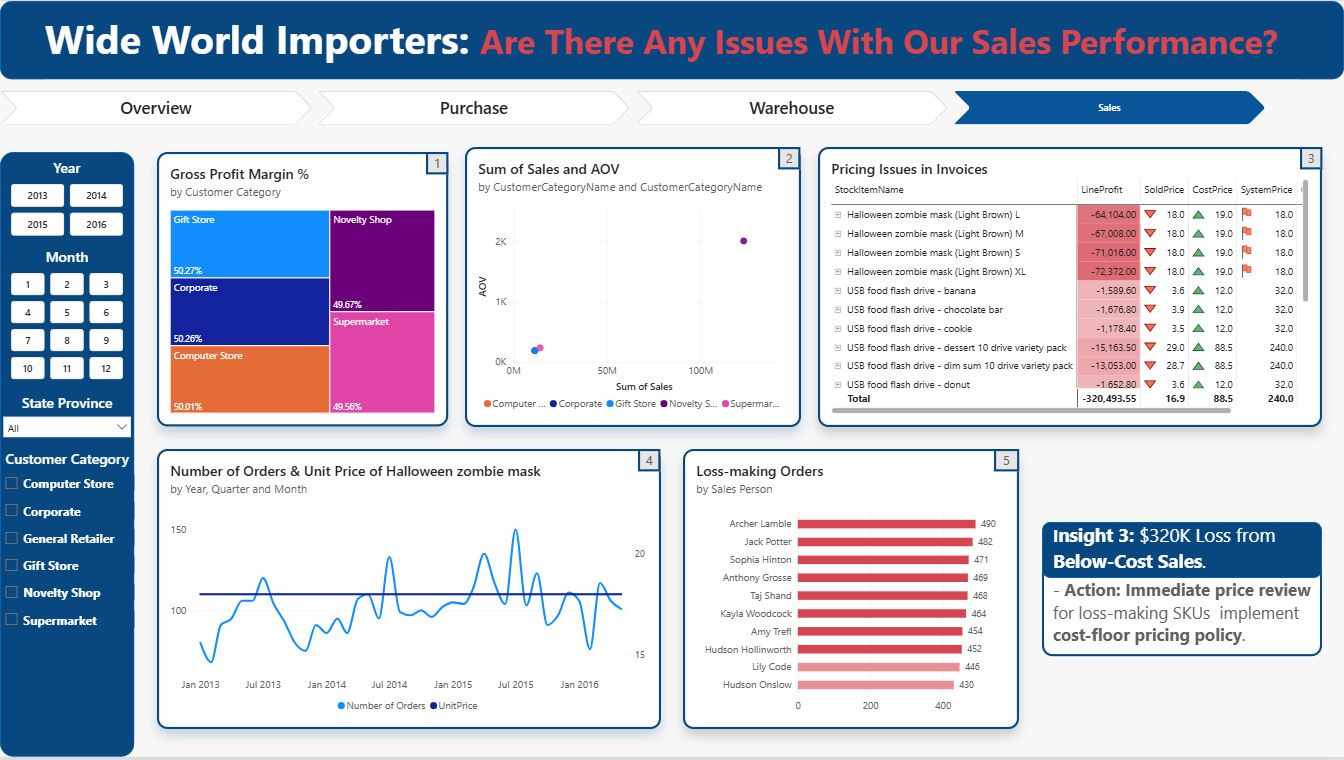

The page's visual inventory and layout, read from the dashboard file:
{"tool":"powerbi","page":{"name":"Sales","canvas":[1920,1080],"ordinal":3},"visuals":[{"type":"shape","box":[0,216,192,864],"z":0},{"type":"shape","box":[0,0,1920,112],"z":1000},{"type":"pageNavigator","box":[0,128,1808,48],"z":2000},{"type":"advancedSlicerVisual","title":"Year","fields":{"Values":["Calendar.Date.Variation.Date Hierarchy.Year"]},"box":[16,224,160,112],"z":3000},{"type":"advancedSlicerVisual","title":"Month","fields":{"Values":["Calendar.MonthNo"]},"box":[16,352,160,192],"z":4000},{"type":"slicer","title":"State Province","fields":{"Values":["Application StateProvinces.StateProvinceName"]},"box":[0,560,192,64],"z":5000},{"type":"textbox","box":[64,16,1792,80],"z":6000},{"type":"shape","box":[1488,760,400,176],"z":7000,"group":"g3"},{"type":"pivotTable","title":"Pricing Issues in Invoices","fields":{"Rows":["Warehouse StockItems.StockItemName","FactSalesInvoices.InvoiceID"],"Values":["Sum(FactSalesInvoices.LineProfit)","Avg(FactSalesInvoices.UnitPrice)","Max(FactSalesInvoices.LastCostPrice)","Max(FactSalesInvoices.Warehouse StockItems.UnitPrice)","Sum(FactSalesInvoices.Quantity)"]},"box":[1168,208,720,400],"z":8000,"group":"g1"},{"type":"shape","box":[1488,744,400,80],"z":8000,"group":"g3"},{"type":"barChart","title":"Loss-making Orders","fields":{"Category":["Application People.FullName"],"Y":["CountNonNull(FactSalesInvoices.InvoiceLineID)"]},"box":[976,640,480,400],"z":9000,"group":"g2"},{"type":"textbox","box":[1504,744,368,96],"z":9000,"group":"g3"},{"type":"textbox","box":[1504,824,384,112],"z":10000,"group":"g3"},{"type":"slicer","title":"Customer Category","fields":{"Values":["Sales CustomerCategories.CustomerCategoryName"]},"box":[0,640,192,272],"z":11000},{"type":"group","id":"g1","title":"Group 5","box":[1168,208,720,400],"z":12000},{"type":"group","id":"g2","title":"Group 6","box":[976,640,480,400],"z":13000},{"type":"treemap","title":"Gross Profit Margin %","fields":{"Group":["Sales CustomerCategories.CustomerCategoryName"],"Values":["*Measure.Gross Profit Margin %"]},"box":[224,216,416,392],"z":14000},{"type":"textbox","box":[608,216,32,32],"z":15000},{"type":"scatterChart","fields":{"Category":["Sales CustomerCategories.CustomerCategoryName","Sales Customers.CustomerName"],"Series":["Sales CustomerCategories.CustomerCategoryName"],"X":["Sum(FactSalesInvoices.Sales)"],"Y":["*Measure.AOV"]},"box":[664,208,480,400],"z":16000},{"type":"textbox","box":[1112,208,32,32],"z":17000},{"type":"textbox","box":[1856,208,32,32],"z":17000,"group":"g1"},{"type":"textbox","box":[1420.4,640,35.6,32],"z":17000,"group":"g2"},{"type":"lineChart","title":"Number of Orders & Unit Price of Halloween zombie mask","fields":{"Category":["Calendar.Date.Variation.Date Hierarchy.Year","Calendar.Date.Variation.Date Hierarchy.Quarter","Calendar.Date.Variation.Date Hierarchy.Month","Calendar.Date.Variation.Date Hierarchy.Day"],"Y":["Count(FactSalesOrders.OrderID)"],"Y2":["Avg(FactSalesOrders.UnitPrice)"]},"box":[224,640,720,400],"z":18000},{"type":"textbox","box":[912,640,32,32],"z":19001},{"type":"group","id":"g3","title":"Group 1","box":[1488,744,400,192],"z":19002}]}

Visuals, with their boxes in screenshot pixels (x1, y1, x2, y2), scaled from the page's 1920x1080 canvas onto the 1344x760 screenshot:
shape: 0/152/134/759
shape: 0/0/1343/79
pageNavigator: 0/90/1266/124
"Year" advancedSlicerVisual: 11/158/123/236
"Month" advancedSlicerVisual: 11/248/123/383
"State Province" slicer: 0/394/134/439
textbox: 45/11/1299/68
shape: 1042/535/1322/659
"Pricing Issues in Invoices" pivotTable: 818/146/1322/428
shape: 1042/524/1322/580
"Loss-making Orders" barChart: 683/450/1019/732
textbox: 1053/524/1310/591
textbox: 1053/580/1322/659
"Customer Category" slicer: 0/450/134/642
"Group 5" group: 818/146/1322/428
"Group 6" group: 683/450/1019/732
"Gross Profit Margin %" treemap: 157/152/448/428
textbox: 426/152/448/175
scatterChart - Sales CustomerCategories.CustomerCategoryName x Sales Customers.CustomerName: 465/146/801/428
textbox: 778/146/801/169
textbox: 1299/146/1322/169
textbox: 994/450/1019/473
"Number of Orders & Unit Price of Halloween zombie mask" lineChart: 157/450/661/732
textbox: 638/450/661/473
"Group 1" group: 1042/524/1322/659
